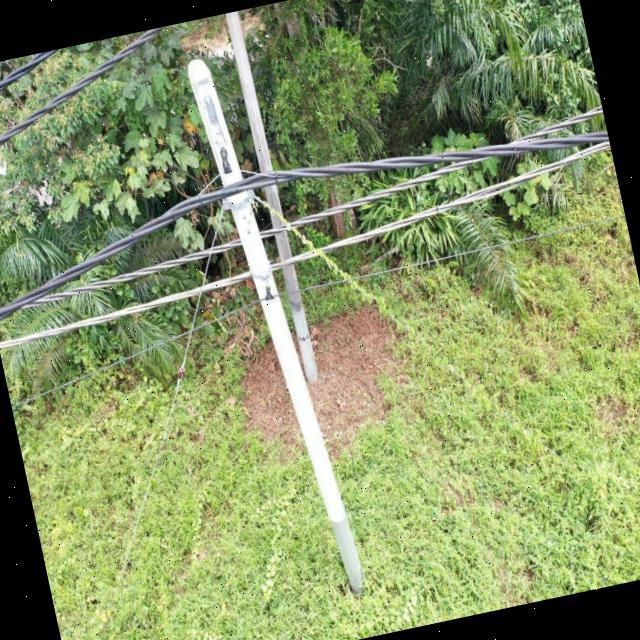critical vegetation: (258, 140, 592, 539)
